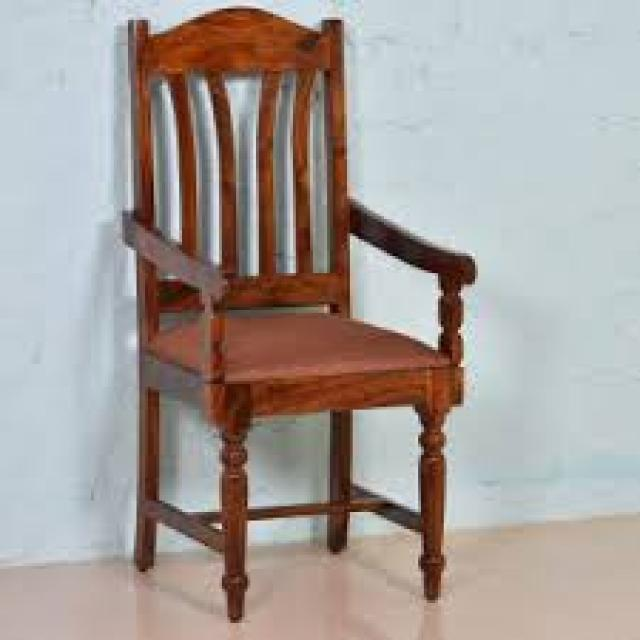chair: (59, 0, 544, 634)
